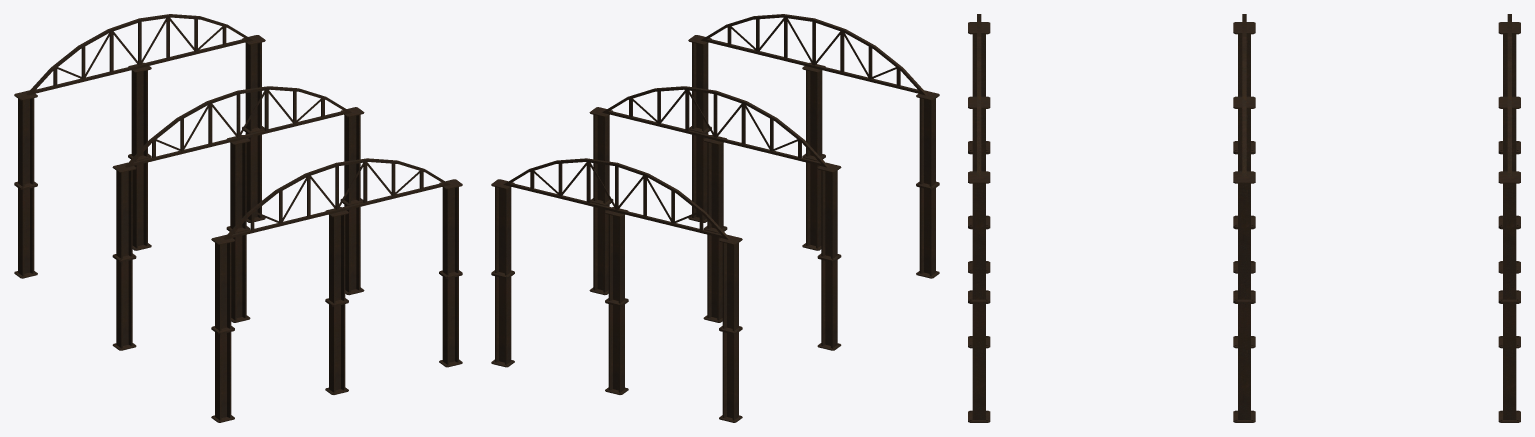
Rendered from warehouse_hl_1_frame.glb.
3 renders of one model, left to right at view 1: azimuth 30°, elevation 25°; view 2: azimuth 150°, elevation 25°; view 3: azimuth 270°, elevation 25°, orthographic. The views are drawn at different scales.
Visible parts, largest first — view 1: warehouse_hl_1_frame; view 2: warehouse_hl_1_frame; view 3: warehouse_hl_1_frame.
Part boxes in pixels (<box>): warehouse_hl_1_frame: <box>14,14,462,422</box>; warehouse_hl_1_frame: <box>491,14,939,422</box>; warehouse_hl_1_frame: <box>968,14,1520,422</box>.
Bounding box in the file's own units: 8.6 × 7.62 × 12.5.
1 material, 1 textured.
